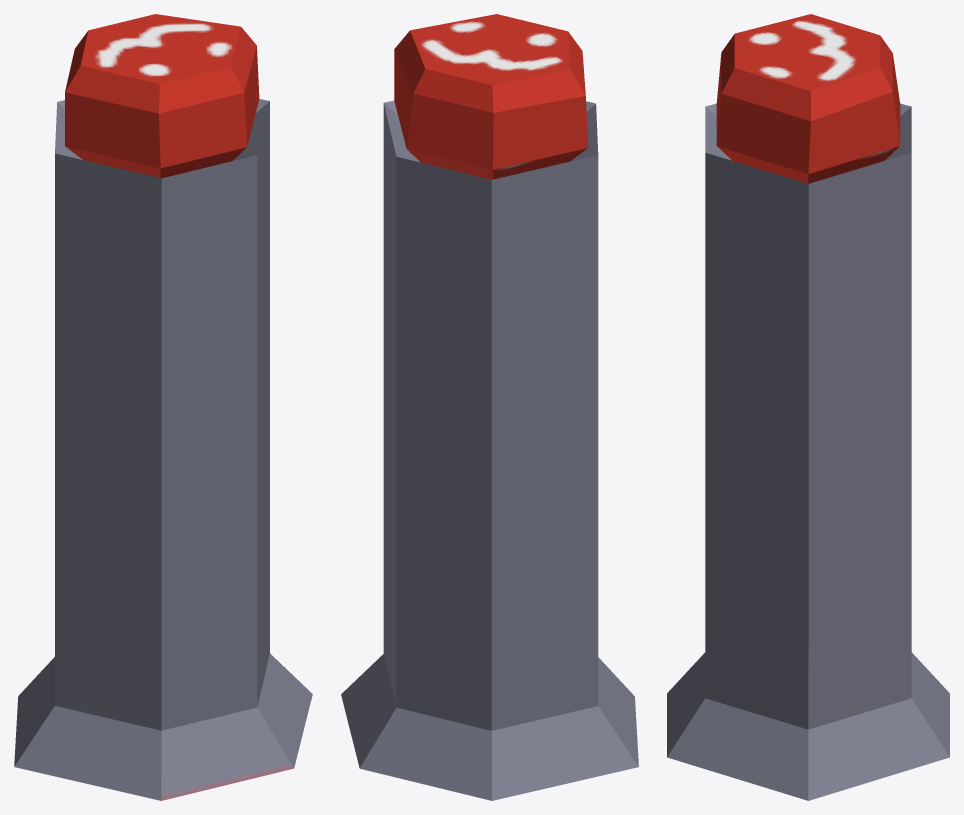
File: buttonmodel.glb
3 renders of one model, left to right at view 1: azimuth 30°, elevation 25°; view 2: azimuth 150°, elevation 25°; view 3: azimuth 270°, elevation 25°, orthographic.
Parts seen in each view (by area): view 1: Button; view 2: Button; view 3: Button.
Part boxes in pixels (left/top/right/bottom): Button: left=14, top=14, right=312, bottom=800; Button: left=341, top=14, right=638, bottom=800; Button: left=667, top=14, right=949, bottom=800.
Size of the model in its own units: 0.7191 by 1.57 by 0.5971.
1 material, 1 textured.
